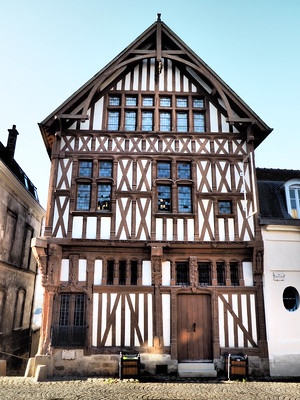high: (25, 12, 276, 386)
